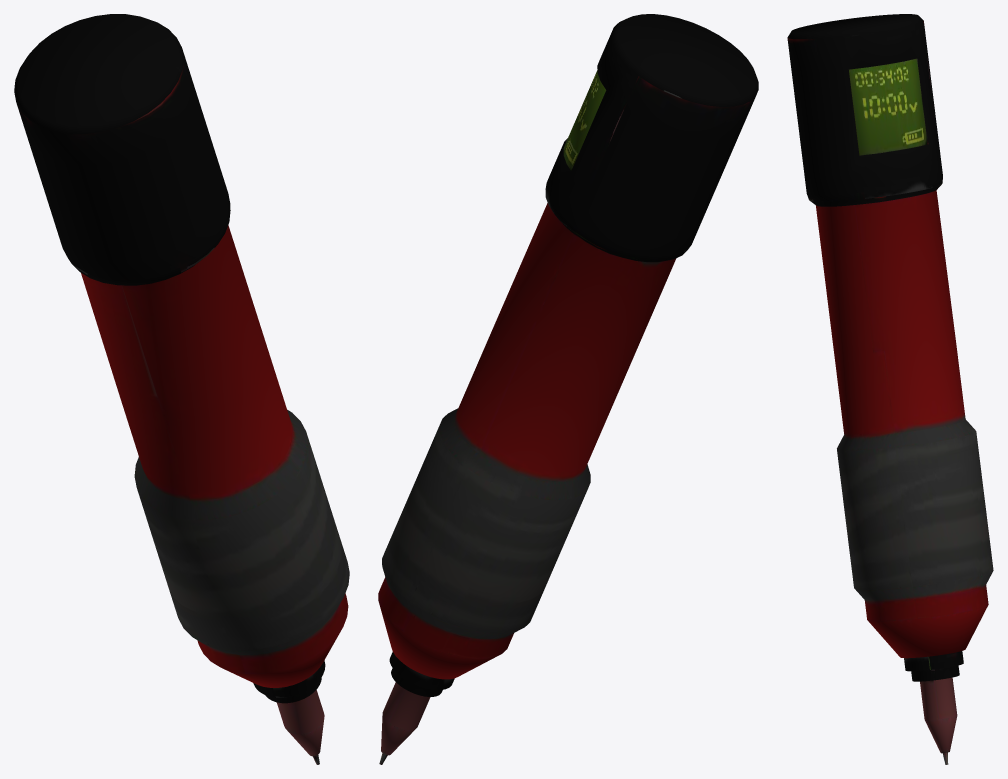
The model's file is masinite.glb.
3 views of the same model, side by side, from view 1: azimuth 30°, elevation 25°; view 2: azimuth 150°, elevation 25°; view 3: azimuth 270°, elevation 25° (orthographic). The views are drawn at different scales.
Parts seen in each view (by area): view 1: Cylinder; view 2: Cylinder; view 3: Cylinder.
Boxes of the visible parts, x1=… form: Cylinder: x1=14, y1=14, x2=349, y2=764; Cylinder: x1=378, y1=14, x2=758, y2=764; Cylinder: x1=787, y1=14, x2=993, y2=764.
Size of the model in its own units: 0.1528 by 0.3434 by 0.0979.
1 material, 1 textured.
